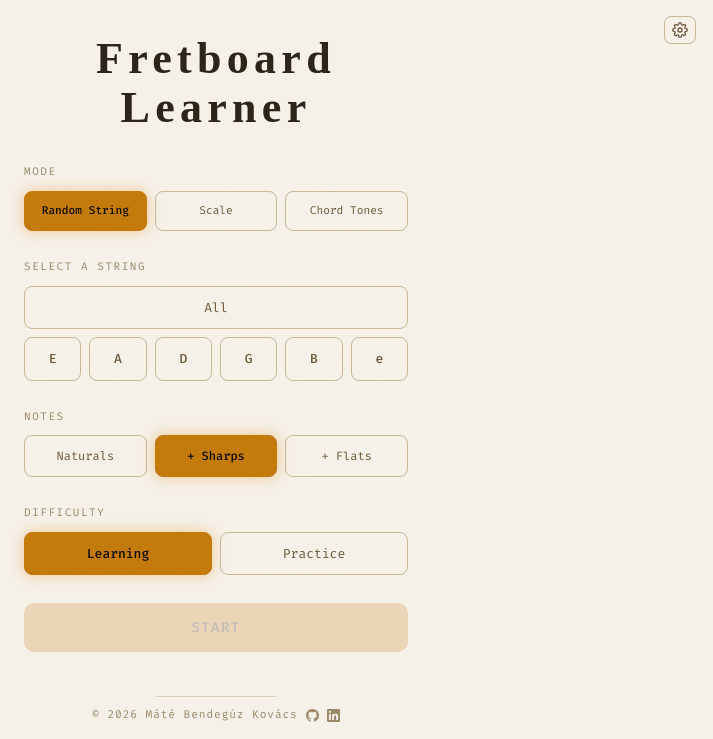
Test case: GameScreen — no microphone (NotFoundError) › shows MicPermissionPrompt with the not-found message
What coordinates should you click on to do the following:
click the button "A"
I would click on:
 (118, 359)
Its box is [89,337,147,381].
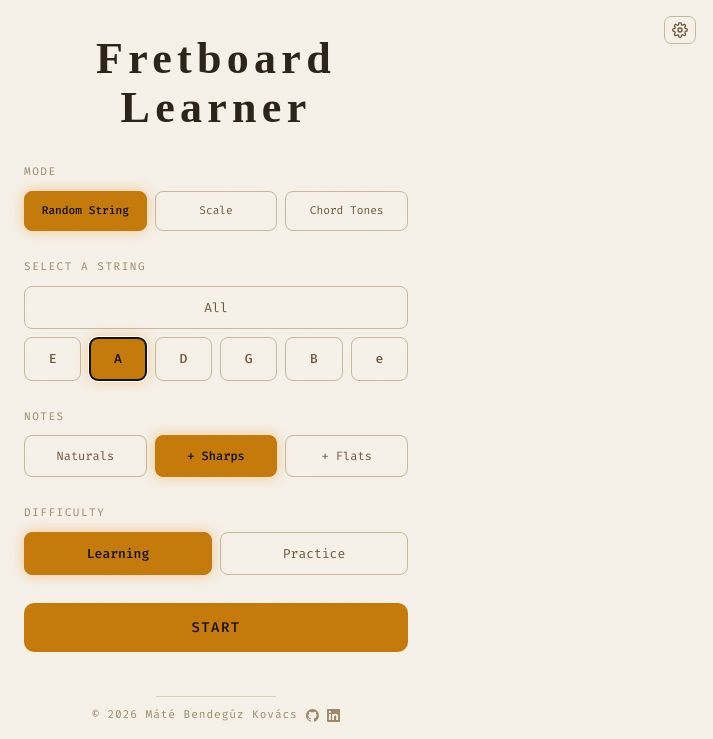
What coordinates should you click on to do the following:
click the button "Start"
I would click on:
 (216, 628)
Its box is [24,603,408,652].
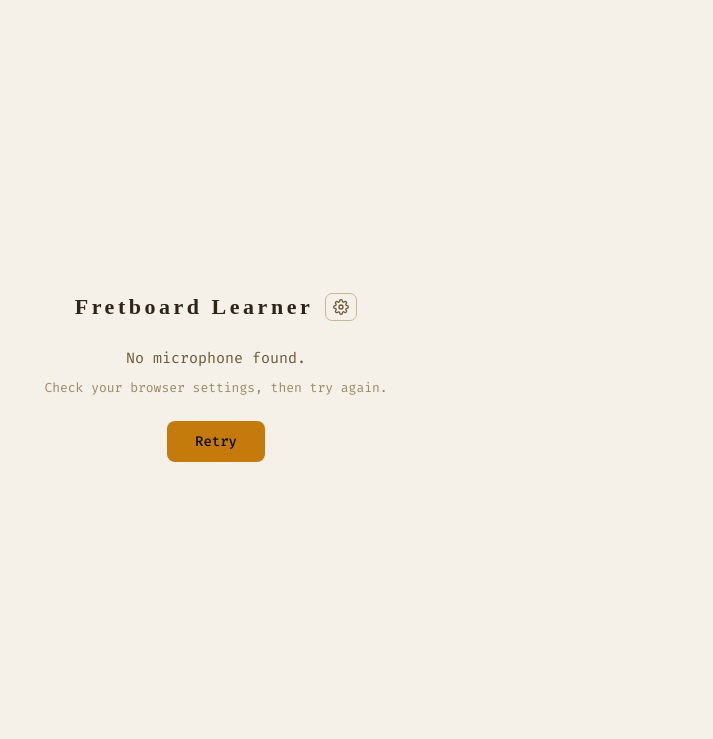
Expected: the text "No microphone found." is shown, [126,348,306,368]
Expected: the button "Retry" is shown, [167,421,265,462]
